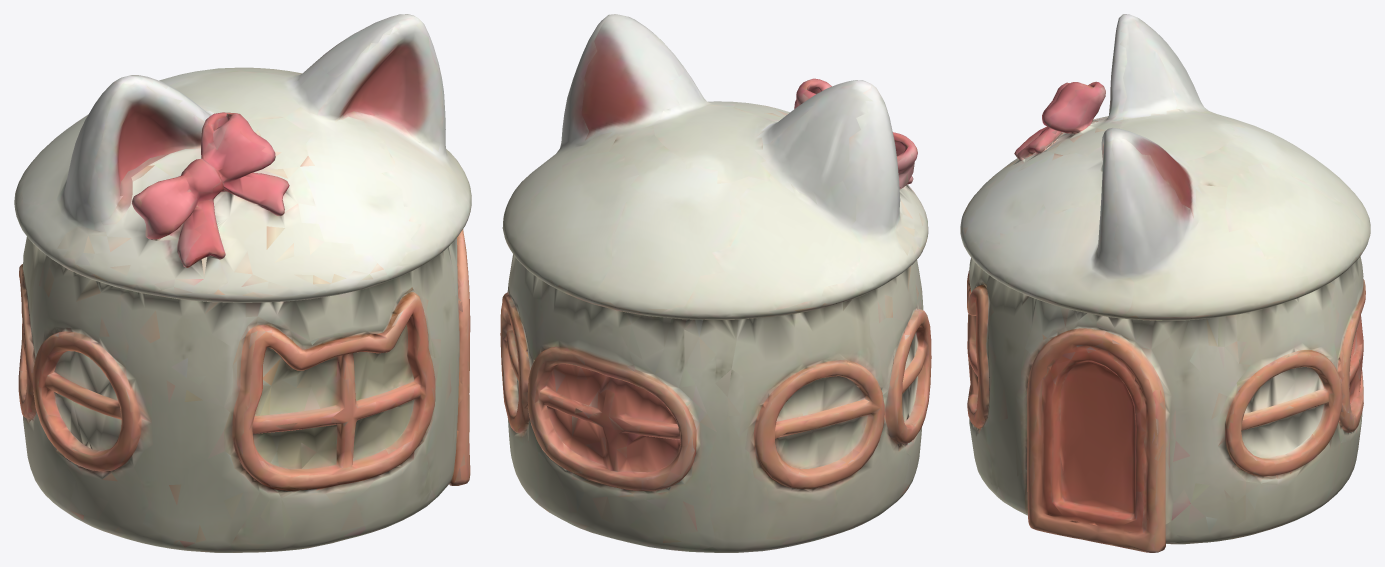
The model's file is sc-home-pink.glb.
3 views of the same model, side by side, from view 1: azimuth 30°, elevation 25°; view 2: azimuth 150°, elevation 25°; view 3: azimuth 270°, elevation 25° (orthographic). The views are drawn at different scales.
Parts seen in each view (by area): view 1: geometry_0; view 2: geometry_0; view 3: geometry_0.
Part boxes in pixels (<box>): geometry_0: <box>14,14,471,552</box>; geometry_0: <box>500,14,931,552</box>; geometry_0: <box>960,14,1370,552</box>.
Size of the model in its own units: 0.9809 by 1 by 0.9539.
1 material, 1 textured.
